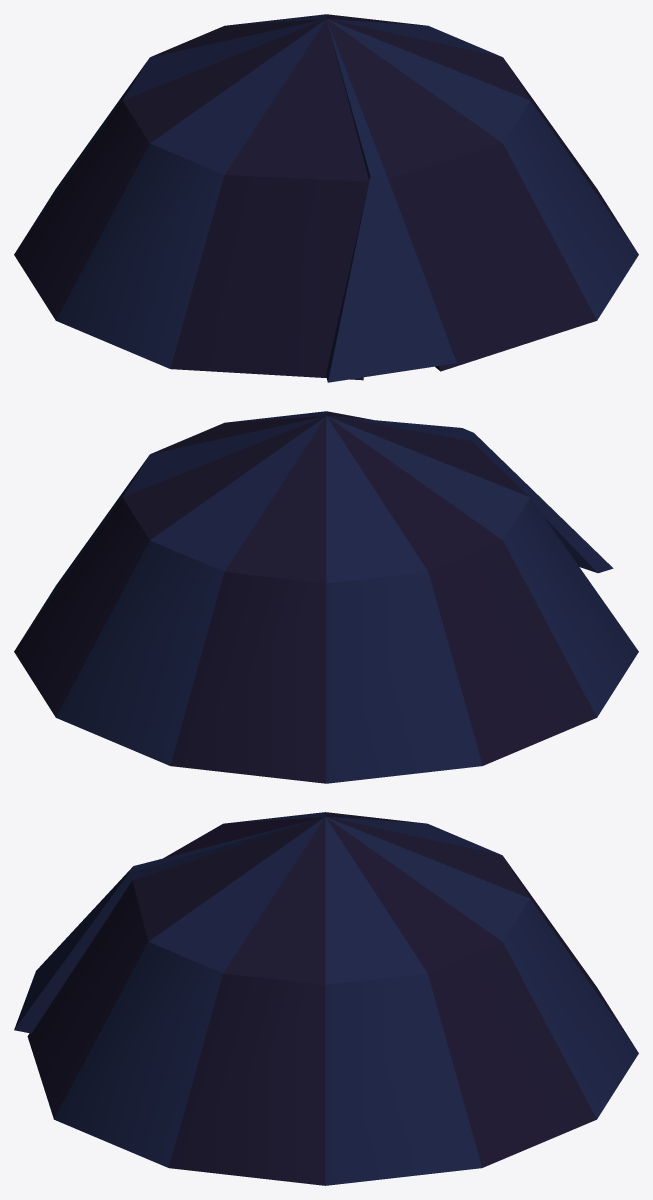
The model's file is chapiteau.obj.
3 views of the same model, one above another, from view 1: azimuth 30°, elevation 25°; view 2: azimuth 150°, elevation 25°; view 3: azimuth 270°, elevation 25° (orthographic).
Visible parts, largest first — view 1: pCone1; view 2: pCone1; view 3: pCone1.
Boxes of the visible parts, left/top/right/bottom form: pCone1: left=14, top=14, right=638, bottom=382; pCone1: left=14, top=411, right=638, bottom=783; pCone1: left=14, top=812, right=638, bottom=1185.
Size of the model in its own units: 39.98 by 16.65 by 39.85.
